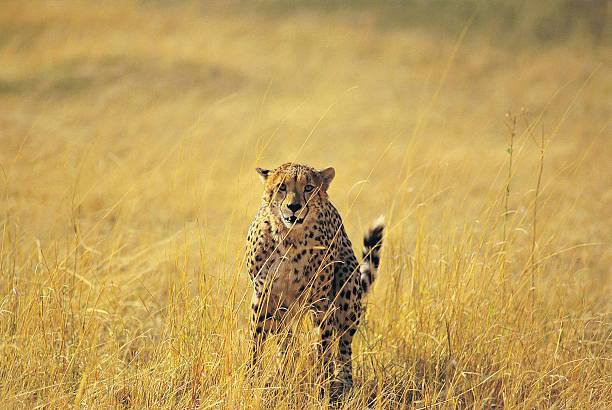cheetah: (253, 158, 346, 238)
